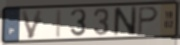3: (93, 7, 111, 38), (69, 8, 87, 38)
I: (54, 8, 64, 39)
N: (113, 5, 139, 38)
P: (137, 6, 160, 36)
V: (20, 9, 44, 41)
